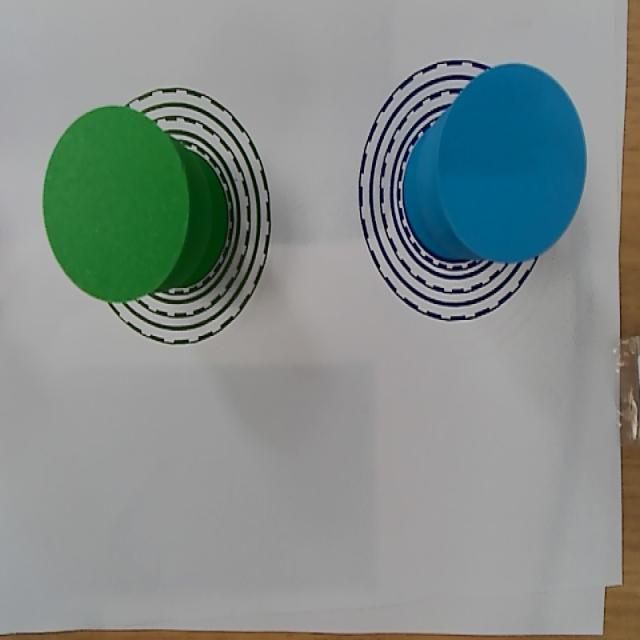b: (439, 61, 586, 262)
g: (44, 105, 190, 302)
